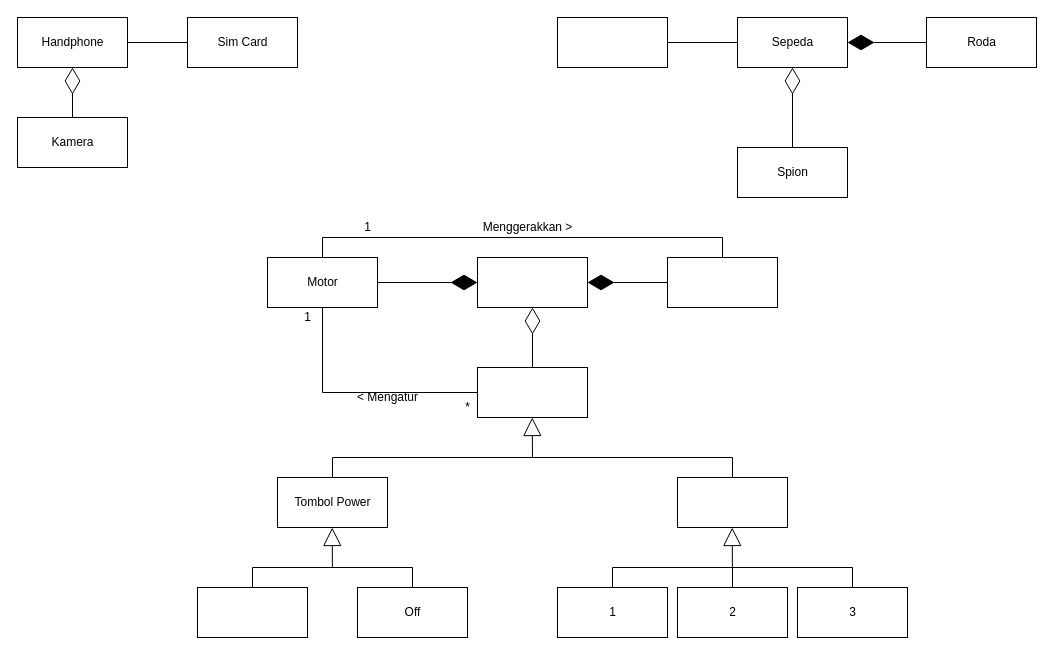
The diagram is 1054 pixels wide and 655 high, and some of its shapes have lost their labels. The box of each missing label's shape, as (x1, y1, x2, y2) in pixels:
Baling-baling: (666, 256, 778, 308)
Kipas Angin: (476, 256, 588, 308)
Manusia: (556, 16, 668, 68)
On: (196, 586, 308, 638)
Tombol: (476, 366, 588, 418)
Tombol Kecepatan: (676, 476, 788, 528)
